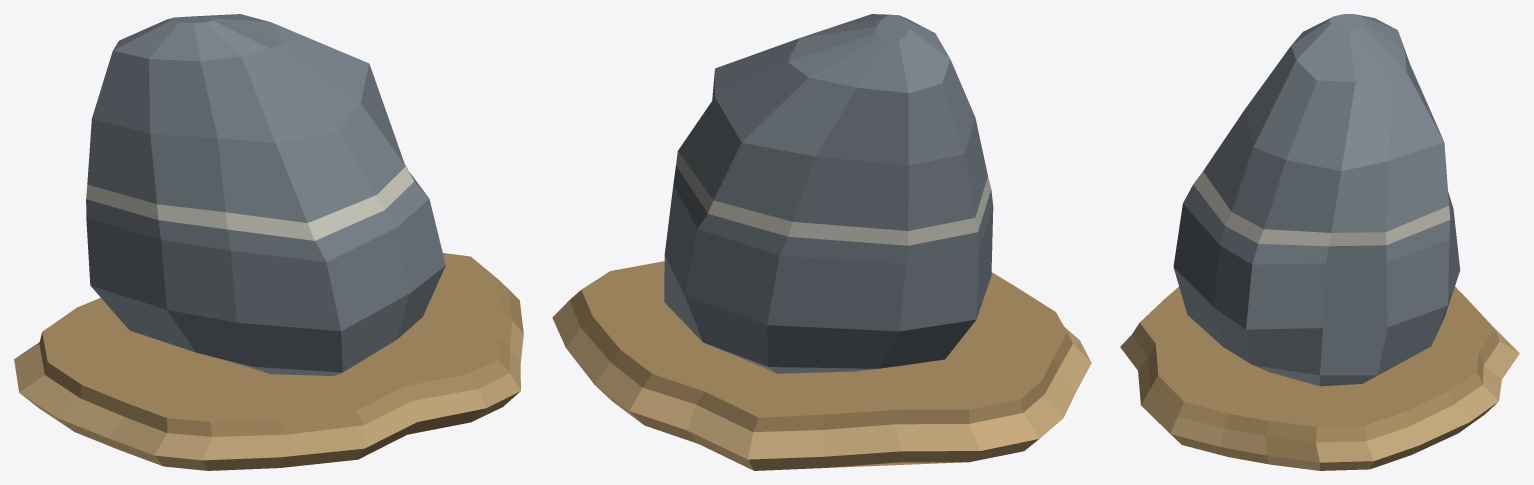
Rendered from glacial-erratic.glb.
3 renders of one model, left to right at view 1: azimuth 30°, elevation 25°; view 2: azimuth 150°, elevation 25°; view 3: azimuth 270°, elevation 25°, orthographic. The views are drawn at different scales.
Parts seen in each view (by area): view 1: single-asymmetric-erratic-with-integral-vein, irregular-stratified-bedrock; view 2: single-asymmetric-erratic-with-integral-vein, irregular-stratified-bedrock; view 3: single-asymmetric-erratic-with-integral-vein, irregular-stratified-bedrock.
Boxes of the visible parts, <box> form: single-asymmetric-erratic-with-integral-vein: <box>86,14,445,375</box>; irregular-stratified-bedrock: <box>14,253,523,470</box>; single-asymmetric-erratic-with-integral-vein: <box>664,14,993,373</box>; irregular-stratified-bedrock: <box>552,261,1091,470</box>; single-asymmetric-erratic-with-integral-vein: <box>1173,14,1460,386</box>; irregular-stratified-bedrock: <box>1120,286,1519,470</box>.
Bounding box in the file's own units: 3.56 × 2.73 × 2.96.
